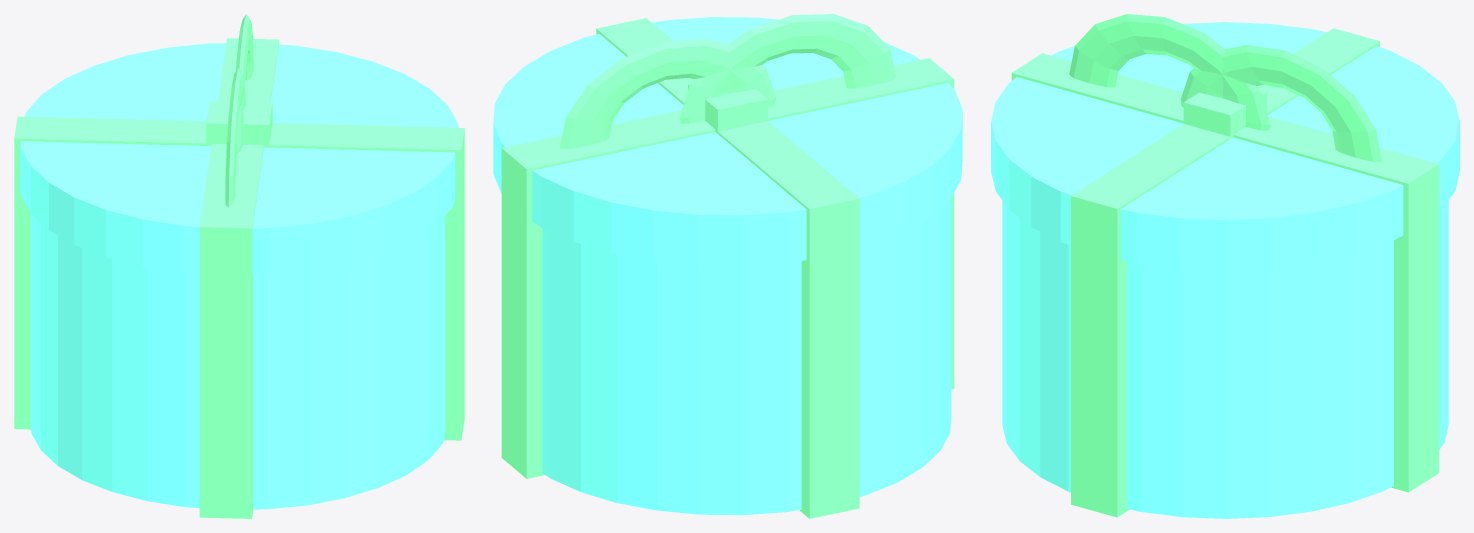
Rendered from Tmpl_Round_Root_205.glb.
3 views of the same model, side by side, from view 1: azimuth 30°, elevation 25°; view 2: azimuth 150°, elevation 25°; view 3: azimuth 270°, elevation 25° (orthographic). The views are drawn at different scales.
Parts seen in each view (by area): view 1: Tmpl_Round_Base.203, Tmpl_Round_Lid.203, Tmpl_Round_Ribbon_X.203, Tmpl_Round_Ribbon_Y.203, Tmpl_Round_BowKnot.203, Tmpl_Round_BowR.203, Tmpl_Round_BowL.203; view 2: Tmpl_Round_Base.203, Tmpl_Round_Lid.203, Tmpl_Round_Ribbon_Y.203, Tmpl_Round_Ribbon_X.203, Tmpl_Round_BowR.203, Tmpl_Round_BowL.203, Tmpl_Round_BowKnot.203; view 3: Tmpl_Round_Base.203, Tmpl_Round_Lid.203, Tmpl_Round_Ribbon_Y.203, Tmpl_Round_Ribbon_X.203, Tmpl_Round_BowR.203, Tmpl_Round_BowL.203, Tmpl_Round_BowKnot.203.
Boxes of the visible parts, bbox=[...] form: Tmpl_Round_Base.203: bbox=[30, 213, 444, 509]; Tmpl_Round_Lid.203: bbox=[20, 43, 458, 275]; Tmpl_Round_Ribbon_X.203: bbox=[199, 38, 279, 518]; Tmpl_Round_Ribbon_Y.203: bbox=[14, 116, 464, 440]; Tmpl_Round_BowKnot.203: bbox=[206, 101, 272, 147]; Tmpl_Round_BowR.203: bbox=[225, 68, 245, 207]; Tmpl_Round_BowL.203: bbox=[235, 14, 253, 153]; Tmpl_Round_Base.203: bbox=[542, 198, 951, 515]; Tmpl_Round_Lid.203: bbox=[493, 17, 962, 265]; Tmpl_Round_Ribbon_Y.203: bbox=[596, 18, 859, 518]; Tmpl_Round_Ribbon_X.203: bbox=[501, 58, 954, 478]; Tmpl_Round_BowR.203: bbox=[679, 14, 896, 123]; Tmpl_Round_BowL.203: bbox=[559, 38, 776, 148]; Tmpl_Round_BowKnot.203: bbox=[688, 84, 767, 131]; Tmpl_Round_Base.203: bbox=[1002, 201, 1448, 518]; Tmpl_Round_Lid.203: bbox=[991, 22, 1459, 270]; Tmpl_Round_Ribbon_Y.203: bbox=[1071, 28, 1379, 517]; Tmpl_Round_Ribbon_X.203: bbox=[1011, 53, 1439, 492]; Tmpl_Round_BowR.203: bbox=[1069, 14, 1270, 130]; Tmpl_Round_BowL.203: bbox=[1180, 45, 1381, 162]; Tmpl_Round_BowKnot.203: bbox=[1183, 90, 1267, 138].
Bounding box in the file's own units: 1.02 × 0.9463 × 1.02.
